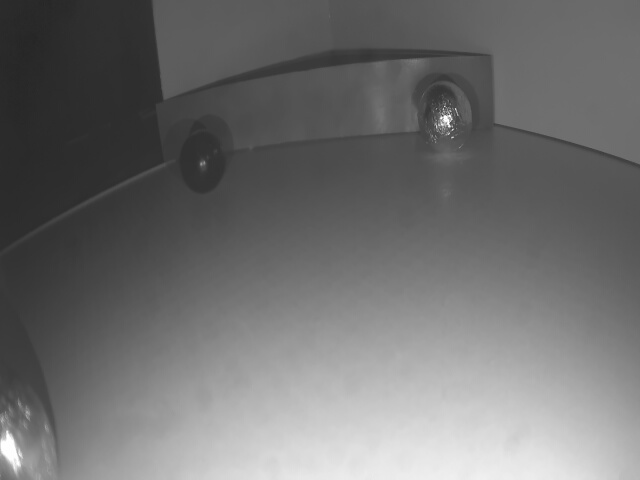Dead: (181, 130, 228, 196)
Live: (0, 371, 59, 480), (418, 81, 471, 155)
Red: (159, 55, 492, 164)
